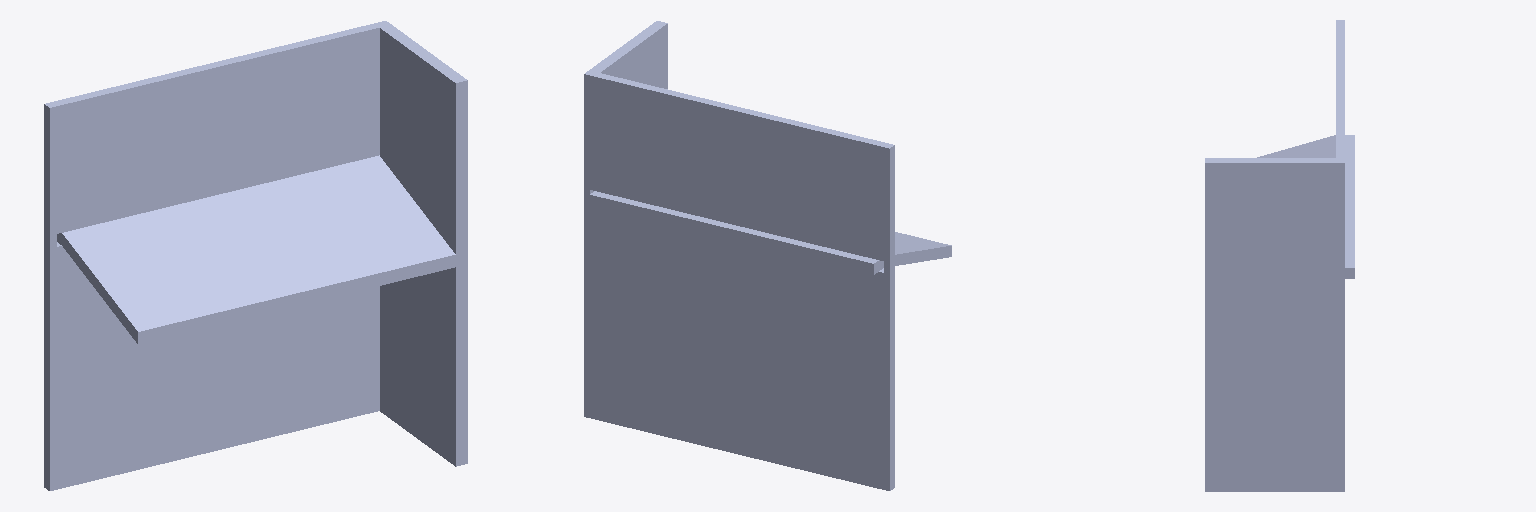
robot.urdf — finalguizi.SLDASM:
<?xml version="1.0" encoding="utf-8"?>
<!-- This URDF was automatically created by SolidWorks to URDF Exporter! Originally created by [author] ([email redacted]) 
     Commit Version: 1.6.0-4-g7f85cfe  Build Version: 1.6.7995.38578
     For more information, please see http://wiki.ros.org/sw_urdf_exporter -->
<robot
  name="finalguizi.SLDASM">
  <link
    name="base_link">
    <inertial>
      <origin
        xyz="-0.561338114816831 0.744283347252242 1.5"
        rpy="0 0 0" />
      <mass
        value="81.3116882358968" />
      <inertia
        ixx="15.6196861372056"
        ixy="0.000471335765372673"
        ixz="-1.07736976857099E-18"
        iyy="13.3260799103019"
        iyz="-2.44792039132809E-17"
        izz="28.9240829306446" />
    </inertial>
    <visual>
      <origin
        xyz="0 0 0"
        rpy="0 0 0" />
      <geometry>
        <mesh
          filename="package://finalguizi/meshes/base_link.STL" />
      </geometry>
      <material
        name="">
        <color
          rgba="0.792156862745098 0.819607843137255 0.933333333333333 1" />
      </material>
    </visual>
    <collision>
      <origin
        xyz="0 0 0"
        rpy="0 0 0" />
      <geometry>
        <mesh
          filename="package://finalguizi/meshes/base_link.STL" />
      </geometry>
    </collision>
  </link>
  <link
    name="left_Link">
    <inertial>
      <origin
        xyz="-1.05006256357391 0.75 -0.209225742066298"
        rpy="0 0 0" />
      <mass
        value="40.5" />
      <inertia
        ixx="8.57790000000001"
        ixy="-3.27629141532889E-32"
        ixz="-1.85037170770859E-16"
        iyy="0.992587500000002"
        iyz="8.60631368184848E-31"
        izz="7.60218750000001" />
    </inertial>
    <visual>
      <origin
        xyz="0 0 0"
        rpy="0 0 0" />
      <geometry>
        <mesh
          filename="package://finalguizi/meshes/left_Link.STL" />
      </geometry>
      <material
        name="">
        <color
          rgba="0.792156862745098 0.819607843137255 0.933333333333333 1" />
      </material>
    </visual>
    <collision>
      <origin
        xyz="0 0 0"
        rpy="0 0 0" />
      <geometry>
        <mesh
          filename="package://finalguizi/meshes/left_Link.STL" />
      </geometry>
    </collision>
  </link>
  <joint
    name="lfixed"
    type="fixed">
    <origin
      xyz="-0.18625 -1.9992 0.0017223"
      rpy="1.5708 0 0" />
    <parent
      link="base_link" />
    <child
      link="left_Link" />
    <axis
      xyz="0 0 0" />
  </joint>
  <link
    name="right_Link">
    <inertial>
      <origin
        xyz="-1.05006256357391 0.75 -0.209225742066298"
        rpy="0 0 0" />
      <mass
        value="40.5" />
      <inertia
        ixx="8.57790000000001"
        ixy="-1.27057878275548E-32"
        ixz="-1.85037170770859E-16"
        iyy="0.992587500000002"
        iyz="-1.73472347597681E-16"
        izz="7.60218750000001" />
    </inertial>
    <visual>
      <origin
        xyz="0 0 0"
        rpy="0 0 0" />
      <geometry>
        <mesh
          filename="package://finalguizi/meshes/right_Link.STL" />
      </geometry>
      <material
        name="">
        <color
          rgba="0.792156862745098 0.819607843137255 0.933333333333333 1" />
      </material>
    </visual>
    <collision>
      <origin
        xyz="0 0 0"
        rpy="0 0 0" />
      <geometry>
        <mesh
          filename="package://finalguizi/meshes/right_Link.STL" />
      </geometry>
    </collision>
  </link>
  <joint
    name="rfixed"
    type="fixed">
    <origin
      xyz="1.1637 -1.9992 0.0017223"
      rpy="1.5708 0 0" />
    <parent
      link="base_link" />
    <child
      link="right_Link" />
    <axis
      xyz="0 0 0" />
  </joint>
  <link
    name="taizi">
    <inertial>
      <origin
        xyz="-0.582667870449744 -0.0838425560155797 0.23"
        rpy="0 0 0" />
      <mass
        value="40.3" />
      <inertia
        ixx="1.41659392473118"
        ixy="5.88146371626907E-16"
        ixz="-1.48488432063944E-15"
        iyy="6.96652666666666"
        iyz="0.387855"
        izz="5.80123392473118" />
    </inertial>
    <visual>
      <origin
        xyz="0 0 0"
        rpy="0 0 0" />
      <geometry>
        <mesh
          filename="package://finalguizi/meshes/taizi.STL" />
      </geometry>
      <material
        name="">
        <color
          rgba="0.792156862745098 0.819607843137255 0.933333333333333 1" />
      </material>
    </visual>
    <collision>
      <origin
        xyz="0 0 0"
        rpy="0 0 0" />
      <geometry>
        <mesh
          filename="package://finalguizi/meshes/taizi.STL" />
      </geometry>
    </collision>
  </link>
  <joint
    name="midfixed"
    type="fixed">
    <origin
      xyz="0.021355 -1.52 0.98653"
      rpy="1.5708 0 0" />
    <parent
      link="base_link" />
    <child
      link="taizi" />
    <axis
      xyz="0 0 0" />
  </joint>
</robot>

--- Facts derived from the render (not from the file) ---
The picture shows the robot from 3 angles, left to right: view 1: azimuth 30°, elevation 25°; view 2: azimuth 150°, elevation 25°; view 3: azimuth 270°, elevation 25°; orthographic projection.
Model finalguizi.SLDASM with 4 links and 3 joints (3 fixed), rooted at base_link, posed every joint at zero.
Links seen in each view (by area): view 1: base_link, taizi, right_Link; view 2: base_link, taizi, right_Link; view 3: right_Link, base_link, taizi.
Boxes of the visible links, x1=… form: base_link: x1=44, y1=21, x2=391, y2=490; taizi: x1=57, y1=155, x2=455, y2=344; right_Link: x1=380, y1=25, x2=467, y2=466; base_link: x1=584, y1=70, x2=894, y2=490; taizi: x1=590, y1=191, x2=951, y2=274; right_Link: x1=590, y1=21, x2=667, y2=88; right_Link: x1=1205, y1=158, x2=1335, y2=491; base_link: x1=1336, y1=20, x2=1344, y2=491; taizi: x1=1257, y1=135, x2=1354, y2=278.
Bounding box of the posed robot: 1.4 × 0.62 × 1.5 m (x, y, z).
3 mesh visuals loaded from 4 distinct referenced files (3 binary STL); not drawn: 1 (reference not matched to a file when rendering).
